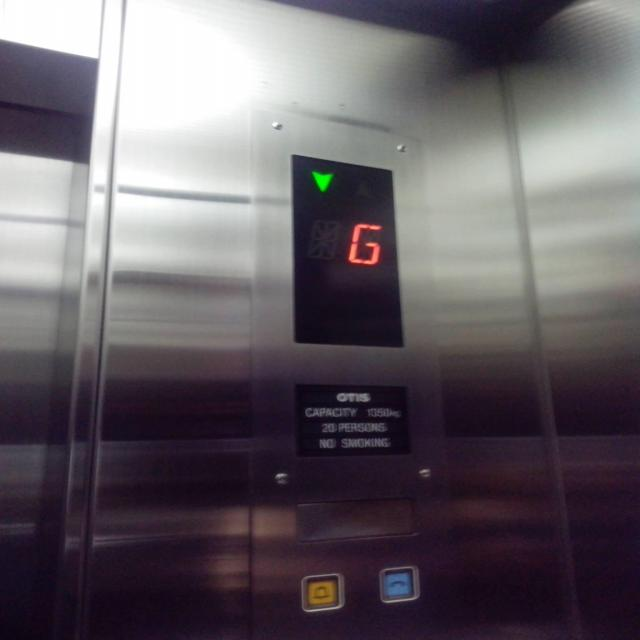alarm: (300, 574, 342, 612)
call: (378, 566, 420, 603)
led: (283, 146, 408, 354)
